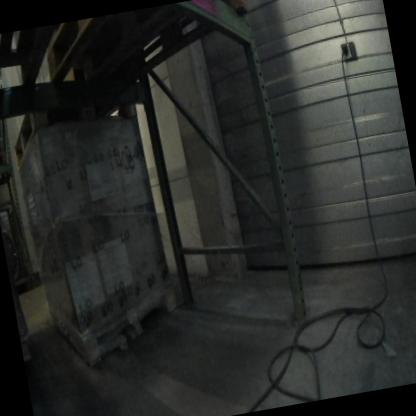pallet: (38, 0, 270, 107), (43, 266, 189, 372), (0, 28, 67, 93), (0, 147, 14, 194)
stillage: (0, 194, 35, 288), (0, 71, 14, 151)
